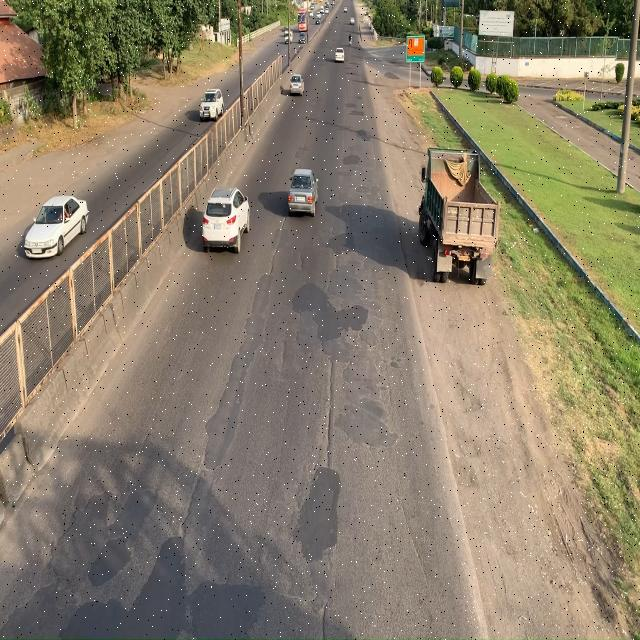Truck: (411, 150, 494, 290)
cars: (24, 194, 89, 260), (202, 188, 250, 250), (287, 168, 318, 217)
